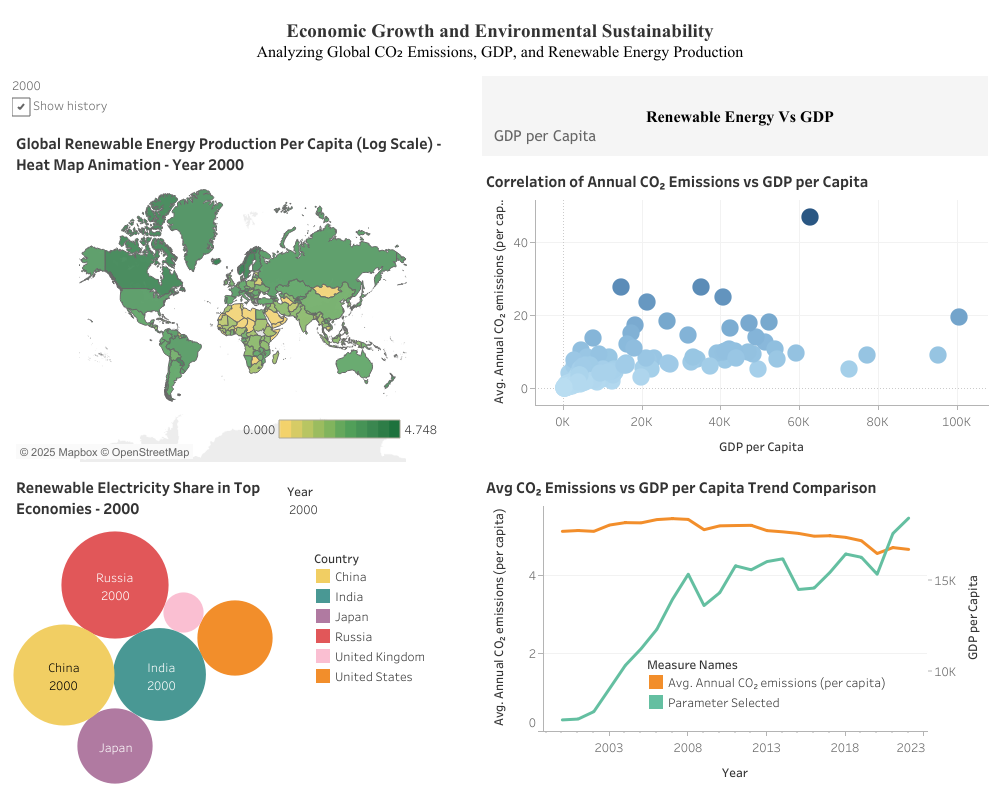

The page's visual inventory and layout, read from the dashboard file:
{"tool":"tableau","page":{"name":"Economic Growth and Environmental Sustainability","canvas":[1000,800],"ordinal":1},"visuals":[{"type":"title","box":[8,8,984,64]},{"type":"currpage","title":"Global Renewable Energy Production Per Capita (Log Scale) - Heat Map Animation","box":[8,72,469.9,50]},{"type":"parameter","param":"[Parameters].[Parameter 1]","box":[477.9,72,514,88]},{"type":"worksheet","title":"Global Renewable Energy Production Per Capita (Log Scale) - Heat Map Animation","mark":"Automatic","box":[8,122,469.9,344]},{"type":"worksheet","title":"Correlation of Annual CO₂ Emissions vs ","mark":"Automatic","rows":["Annual CO₂ emissions (per capita)"],"cols":["Calculation_1800876912642392064"],"box":[477.9,160,514,306]},{"type":"legend","title":"Global Renewable Energy Production Per Capita (Log Scale) - Heat Map Animation","param":"[federated.1q6zv2z09dmxrx17ai2cp02gsiib].[sum:Calculation_2299369099756097536:qk","box":[239,416,203,32]},{"type":"worksheet","title":"Renewable Electricity Share in Top Economies","mark":"Circle","box":[8,466,469.9,326]},{"type":"worksheet","title":"Avg CO₂ Emissions vs ","mark":"Automatic","rows":["Annual CO₂ emissions (per capita)","Calculation_1800876912642392064"],"cols":["Year (co-emissions-per-capita.csv)"],"box":[477.9,466,514,326]},{"type":"filter","title":"Renewable Electricity Share in Top Economies","param":"[federated.1q6zv2z09dmxrx17ai2cp02gsiib].[Required Years Set]","box":[287,481,168,61]},{"type":"legend","title":"Renewable Electricity Share in Top Economies","param":"[federated.1q6zv2z09dmxrx17ai2cp02gsiib].[none:Entity (share-electricity-renewab","box":[313,547,140,148]},{"type":"legend","title":"Avg CO₂ Emissions vs ","param":"[federated.1q6zv2z09dmxrx17ai2cp02gsiib].[:Measure Names]","box":[646,653,299,71]}]}

Visuals, with their boxes in screenshot pixels (x1, y1, x2, y2), scaled from the page's 1000x800 canvas onto the 999x799 screenshot:
title: left=8, top=8, right=991, bottom=72
"Global Renewable Energy Production Per Capita (Log Scale) - Heat Map Animation" currpage: left=8, top=72, right=477, bottom=122
parameter: left=477, top=72, right=991, bottom=160
"Global Renewable Energy Production Per Capita (Log Scale) - Heat Map Animation" worksheet: left=8, top=122, right=477, bottom=465
"Correlation of Annual CO₂ Emissions vs " worksheet: left=477, top=160, right=991, bottom=465
"Global Renewable Energy Production Per Capita (Log Scale) - Heat Map Animation" legend: left=239, top=415, right=442, bottom=447
"Renewable Electricity Share in Top Economies" worksheet (Circle marks): left=8, top=465, right=477, bottom=791
"Avg CO₂ Emissions vs " worksheet: left=477, top=465, right=991, bottom=791
"Renewable Electricity Share in Top Economies" filter: left=287, top=480, right=455, bottom=541
"Renewable Electricity Share in Top Economies" legend: left=313, top=546, right=453, bottom=694
"Avg CO₂ Emissions vs " legend: left=645, top=652, right=944, bottom=723
